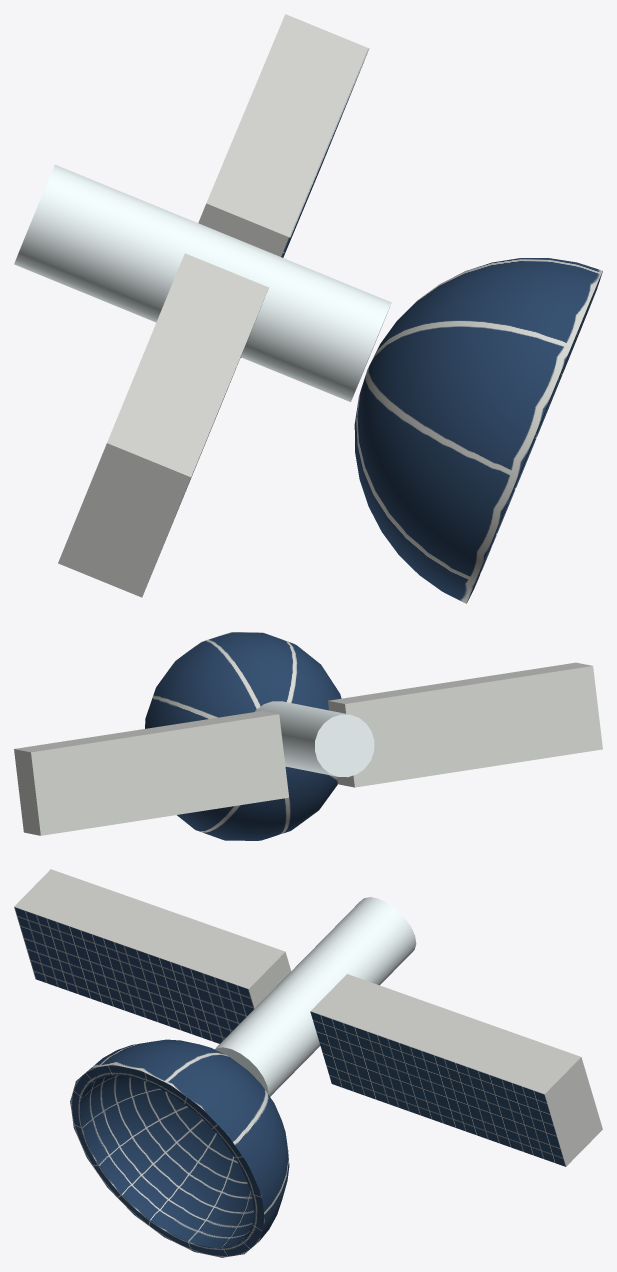
Rendered from satellite.gltf.
3 views of the same model, one above another, from view 1: azimuth 30°, elevation 25°; view 2: azimuth 150°, elevation 25°; view 3: azimuth 270°, elevation 25° (orthographic). The views are drawn at different scales.
Parts seen in each view (by area): view 1: satellite_plate, satellite_cylinder, satellite_panel_L, satellite_panel_R; view 2: satellite_panel_R, satellite_panel_L, satellite_plate, satellite_cylinder; view 3: satellite_plate, satellite_panel_R, satellite_panel_L, satellite_cylinder.
Boxes of the visible parts, bbox=[...] form: satellite_plate: bbox=[354, 258, 602, 603]; satellite_cylinder: bbox=[14, 164, 391, 402]; satellite_panel_L: bbox=[58, 253, 268, 597]; satellite_panel_R: bbox=[198, 14, 369, 357]; satellite_panel_R: bbox=[14, 711, 288, 835]; satellite_panel_L: bbox=[328, 662, 602, 787]; satellite_plate: bbox=[145, 632, 341, 840]; satellite_cylinder: bbox=[255, 701, 374, 777]; satellite_plate: bbox=[70, 1039, 289, 1257]; satellite_panel_R: bbox=[310, 974, 602, 1166]; satellite_panel_L: bbox=[14, 869, 291, 1043]; satellite_cylinder: bbox=[215, 897, 416, 1096].
Size of the model in its own units: 2.1 by 1.17 by 2.41.
4 materials, 3 textured.
